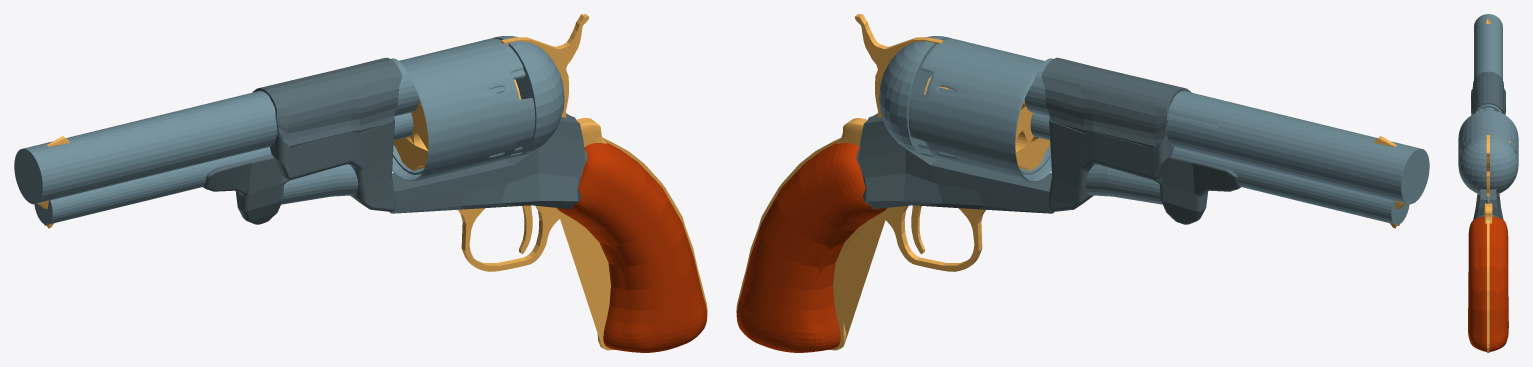
Rendered from ColtDragoon.fbx.
3 renders of one model, left to right at view 1: azimuth 30°, elevation 25°; view 2: azimuth 150°, elevation 25°; view 3: azimuth 270°, elevation 25°, orthographic. The views are drawn at different scales.
Parts seen in each view (by area): view 1: handle, Cylinder, Cube.004, Cube.001, Cube.012, Cube.002, Cylinder.001, Cube.005, back, Cube.006, Cylinder.002, trigger guard (+3 smaller); view 2: handle, Cylinder, Cube.004, Cube.001, Cube.012, Cube.002, Cylinder.001, Cube.005, back, Cube.006, Cylinder.002, trigger guard (+3 smaller); view 3: handle, back, Cylinder, Cube.004, Cube.012, Cube.001, Cube.005, hammer, Cube.003, Cube.007.
Part boxes in pixels (<box>): handle: <box>557,142,707,352</box>; Cylinder: <box>14,58,419,204</box>; Cube.004: <box>392,38,535,181</box>; Cube.001: <box>389,113,587,213</box>; Cube.012: <box>252,57,402,148</box>; Cube.002: <box>270,117,395,211</box>; Cylinder.001: <box>34,112,413,224</box>; Cube.005: <box>560,138,707,350</box>; back: <box>491,36,564,156</box>; Cube.006: <box>203,155,289,224</box>; Cylinder.002: <box>281,164,358,204</box>; trigger guard: <box>458,205,563,271</box>; handle: <box>736,142,886,352</box>; Cylinder: <box>1024,58,1429,204</box>; Cube.004: <box>908,38,1051,181</box>; Cube.001: <box>856,113,1054,213</box>; Cube.012: <box>1041,57,1191,148</box>; Cube.002: <box>1048,117,1173,211</box>; Cylinder.001: <box>1030,112,1409,224</box>; Cube.005: <box>736,138,885,350</box>; back: <box>879,36,951,156</box>; Cube.006: <box>1154,155,1240,224</box>; Cylinder.002: <box>1086,164,1162,204</box>; trigger guard: <box>880,205,985,271</box>; handle: <box>1468,216,1508,351</box>; back: <box>1458,136,1518,194</box>; Cylinder: <box>1474,14,1502,113</box>; Cube.004: <box>1458,110,1518,163</box>; Cube.012: <box>1471,71,1505,113</box>; Cube.001: <box>1473,189,1503,219</box>; Cube.005: <box>1487,220,1489,352</box>; hammer: <box>1486,135,1489,197</box>; Cube.003: <box>1484,203,1492,223</box>; Cube.007: <box>1461,138,1515,152</box>.
Bounding box in the file's own units: 46.51 × 22.92 × 7.04.
